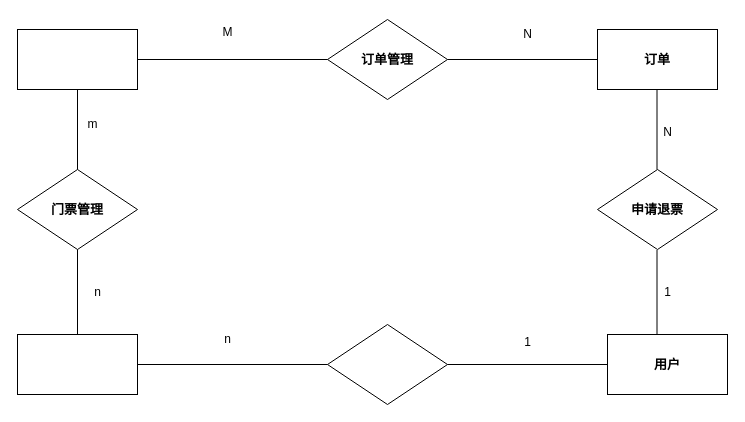
Image size: 745x422. Some labels were removed from this diagram. The centre of each missing label's shape, as x and y in pixels:
营业员: the point at 77,59
购票: the point at 387,364
门票: the point at 77,364
